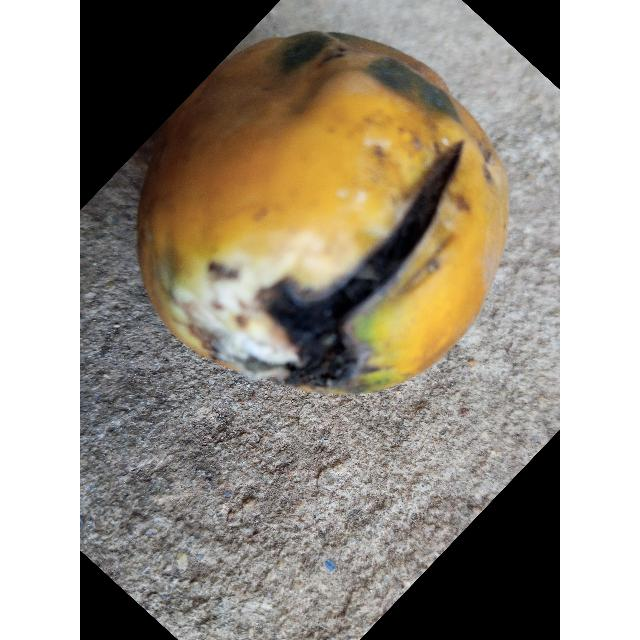damaged: (136, 30, 510, 395)
